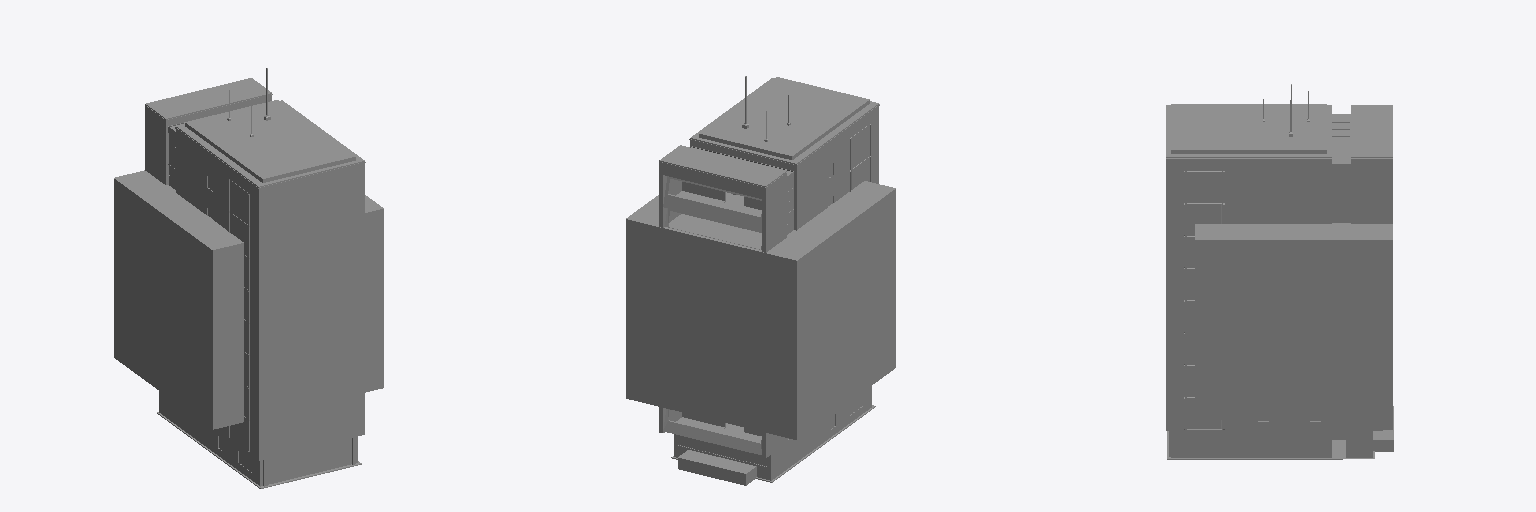
The model's file is Immeuble2.obj.
3 renders of one model, left to right at view 1: azimuth 30°, elevation 25°; view 2: azimuth 150°, elevation 25°; view 3: azimuth 270°, elevation 25°, orthographic.
Parts seen in each view (by area): view 1: Residential_, Cube; view 2: Cube, Residential_; view 3: Residential_, Cube.
Boxes of the visible parts, box(x1,y1,x2,y2) form: Residential_: box(145, 68, 365, 488); Cube: box(114, 170, 383, 429); Cube: box(626, 181, 895, 439); Residential_: box(659, 76, 879, 485); Residential_: box(1166, 84, 1393, 459); Cube: box(1195, 223, 1392, 419).
Size of the model in its own units: 2 by 4 by 2.31.